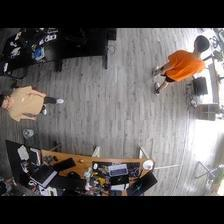normal: (149, 35, 209, 94), (1, 85, 63, 121)
